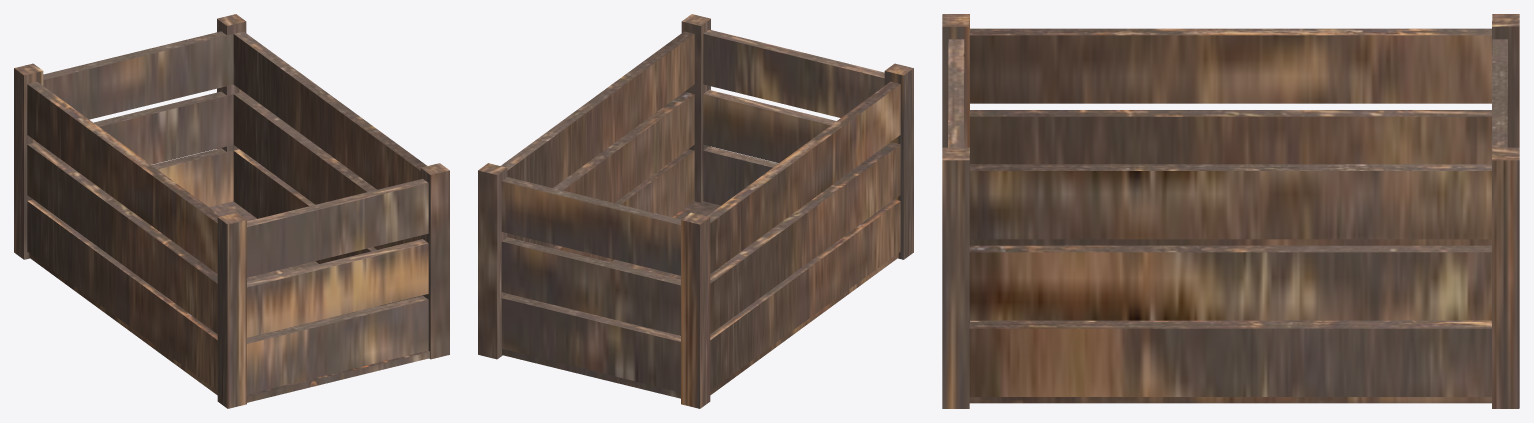
3 views of the same model, side by side, from view 1: azimuth 30°, elevation 25°; view 2: azimuth 150°, elevation 25°; view 3: azimuth 270°, elevation 25° (orthographic). The views are drawn at different scales.
Parts seen in each view (by area): view 1: Cube.015; view 2: Cube.015; view 3: Cube.015.
Part boxes in pixels (<box>): Cube.015: <box>14,14,449,408</box>; Cube.015: <box>478,14,913,408</box>; Cube.015: <box>942,14,1519,408</box>.
Size of the model in its own units: 107 by 84.44 by 178.
1 material, 1 textured.
